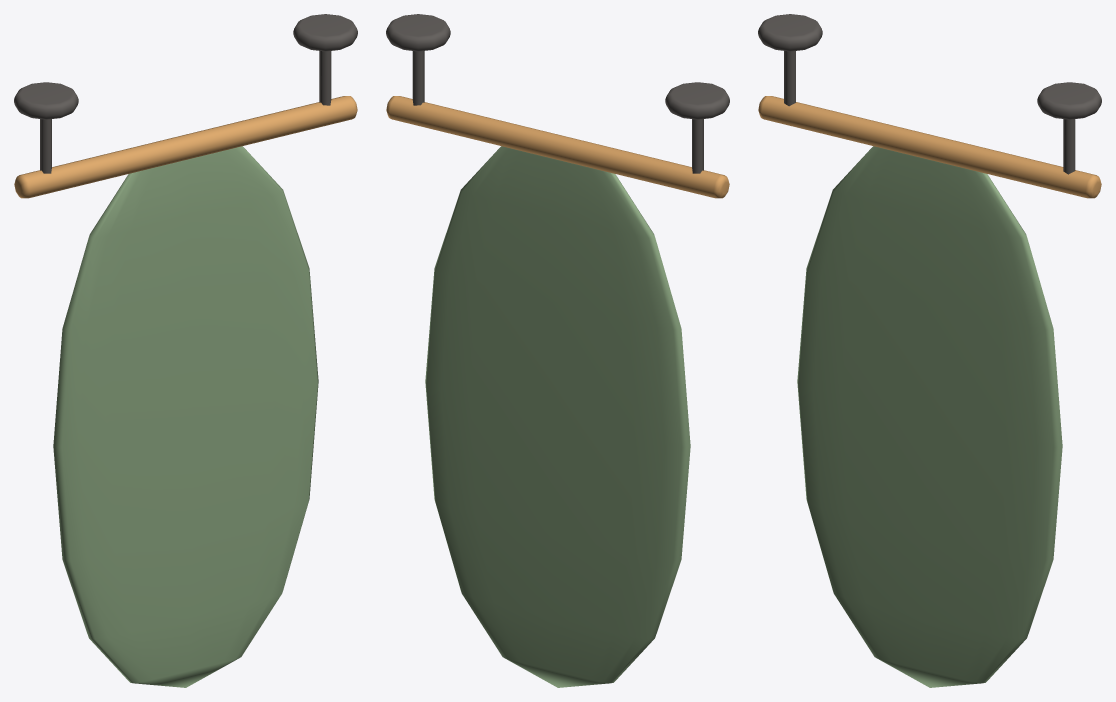
The model's file is split_curtain_tall.glb.
The picture shows the model from 3 angles, left to right: view 1: azimuth 30°, elevation 25°; view 2: azimuth 150°, elevation 25°; view 3: azimuth 330°, elevation 25°; orthographic projection.
Visible parts, largest first — view 1: split_curtain_tall_mesh; view 2: split_curtain_tall_mesh; view 3: split_curtain_tall_mesh.
Boxes of the visible parts, x1,y1,x2,y2 form: split_curtain_tall_mesh: [14, 14, 357, 687]; split_curtain_tall_mesh: [386, 14, 729, 687]; split_curtain_tall_mesh: [758, 14, 1101, 687].
Size of the model in its own units: 0.48 by 0.86 by 0.08.
